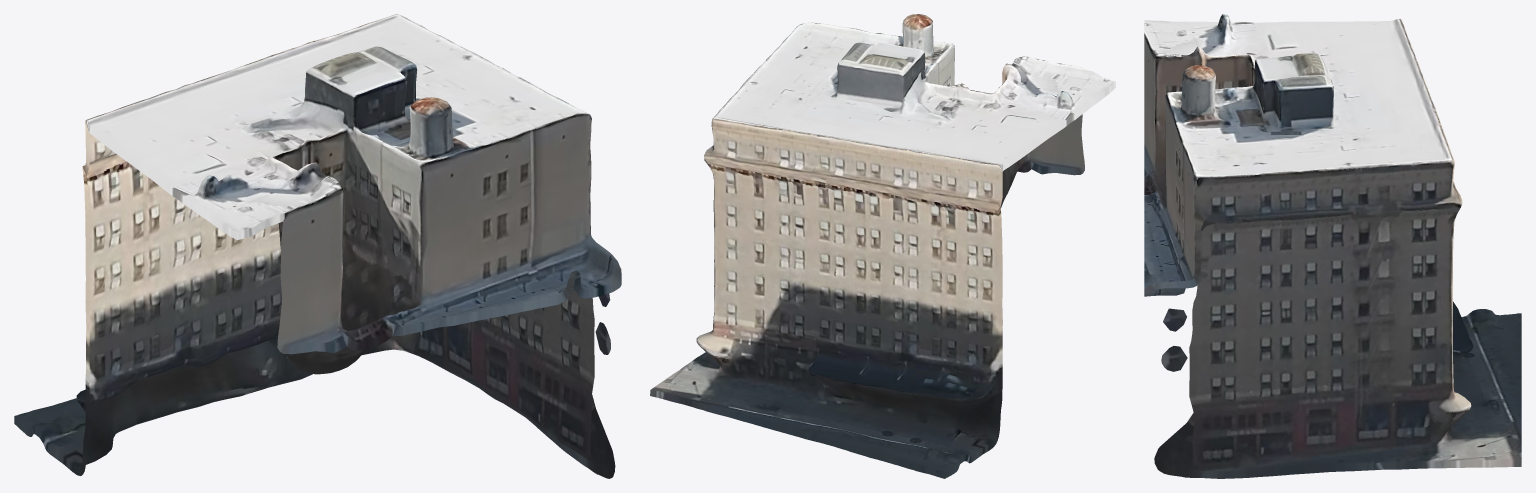
Rendered from z20-167756-405239-h0-yup-uvflip-v3-world.glb.
3 views of the same model, side by side, from view 1: azimuth 30°, elevation 25°; view 2: azimuth 150°, elevation 25°; view 3: azimuth 270°, elevation 25° (orthographic). The views are drawn at different scales.
Size of the model in its own units: 30.2 by 31.04 by 30.32.
Materials: 1 (1 with a texture image).
